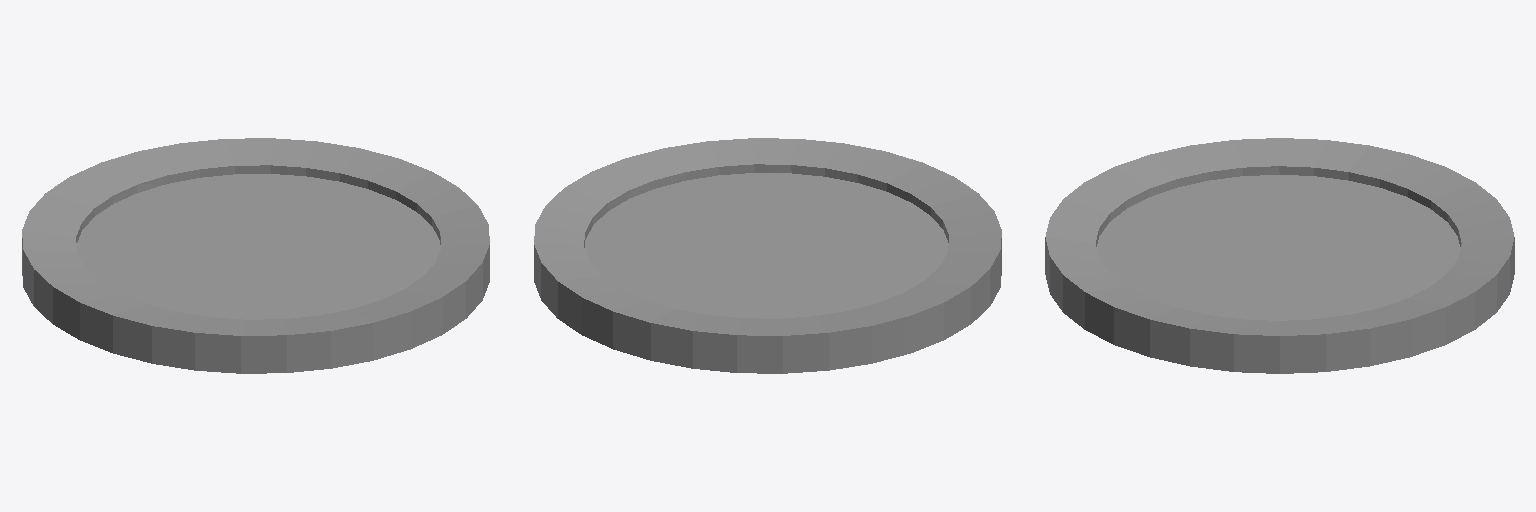
File: puck.obj
3 views of the same model, side by side, from view 1: azimuth 30°, elevation 25°; view 2: azimuth 150°, elevation 25°; view 3: azimuth 270°, elevation 25° (orthographic).
Visible parts, largest first — view 1: Sphere; view 2: Sphere; view 3: Sphere.
Part boxes in pixels (bbox=[...]): Sphere: bbox=[22, 138, 489, 373]; Sphere: bbox=[534, 138, 1001, 373]; Sphere: bbox=[1045, 138, 1514, 373].
Bounding box in the file's own units: 2 × 0.1777 × 2.